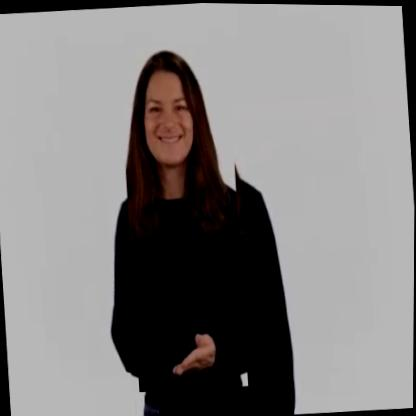ThankYou: (116, 40, 251, 393)
